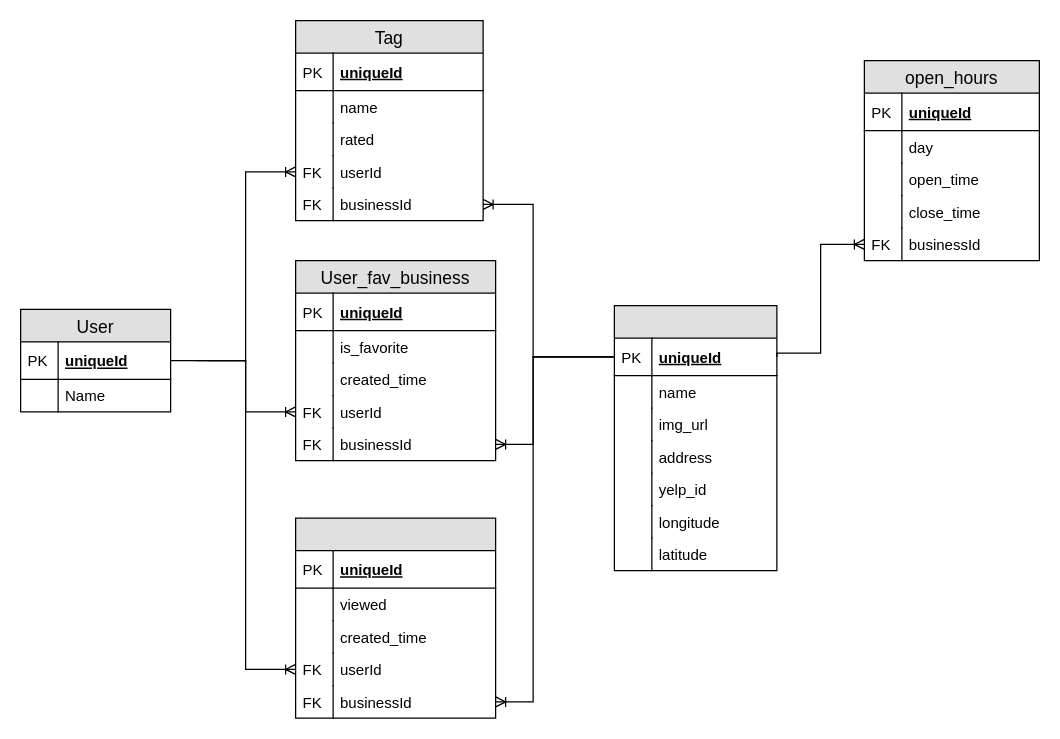
This 1060x739 diagram has some shape labels left out. The shapes that lost their labels are listed below. From the top down, each one's box as (x1, y1, x2, y2) in pixels, then its label:
(613, 304, 777, 571): Business
(294, 517, 496, 718): User_viewed_business
